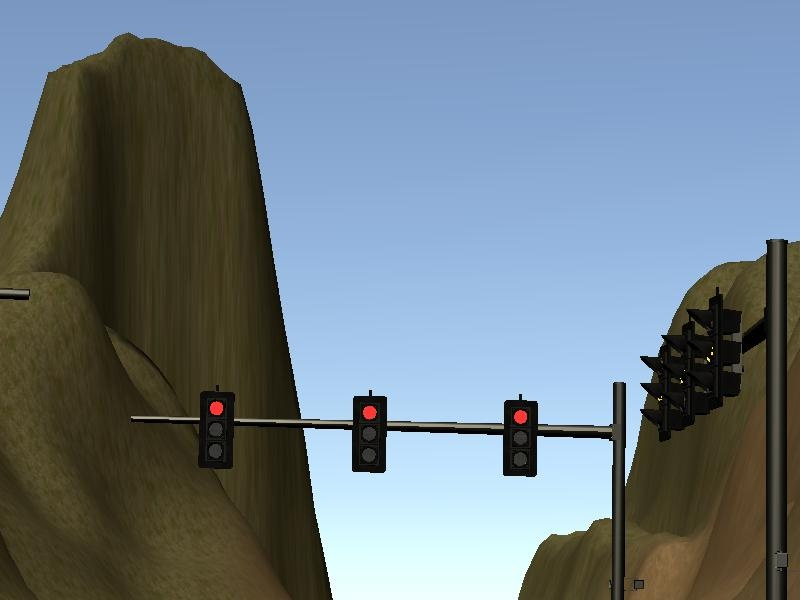traffic_light_red: (176, 384, 610, 483)
